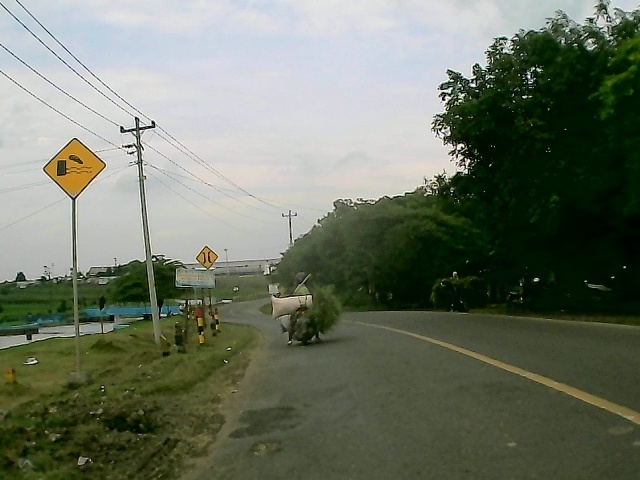Jembatan: (196, 244, 220, 270)
Peringatan tepi air: (40, 134, 108, 203)
